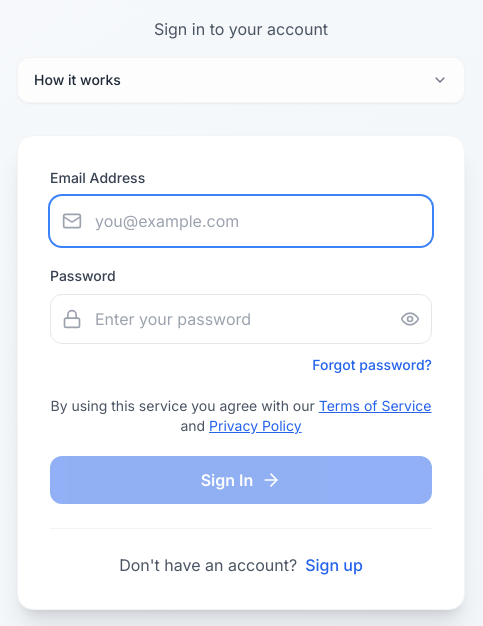
AuthPage — sign-up mode › shows terms checkbox in sign-up mode
(page scrolled)
What coordinates should you click on to do the following:
click the button "Sign up"
I would click on:
 (334, 565)
Its box is [305,553,363,577].
(page scrolled)
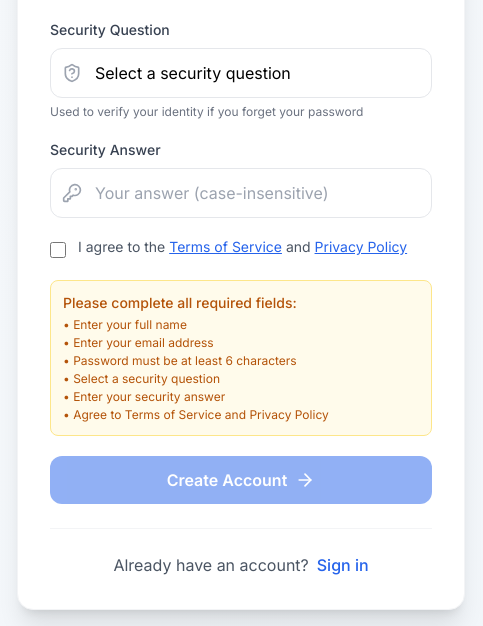
Result: the checkbox is shown at [50,242,66,258]
